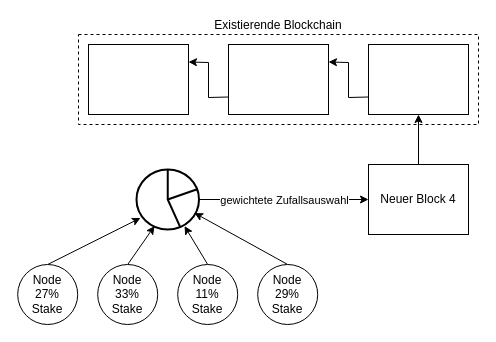
This 496x342 diagram has some shape labels left out. Here are the shapes that lost their labels. From the top down, the box of each, then its label:
(88, 44, 188, 114): Block 1
(228, 44, 328, 114): Block 2
(368, 44, 468, 114): Block 3
